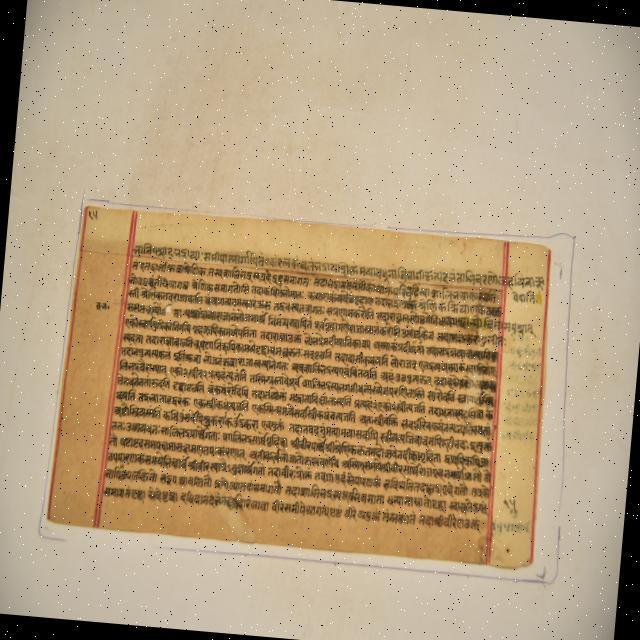text_paragraph: (42, 204, 548, 569)
